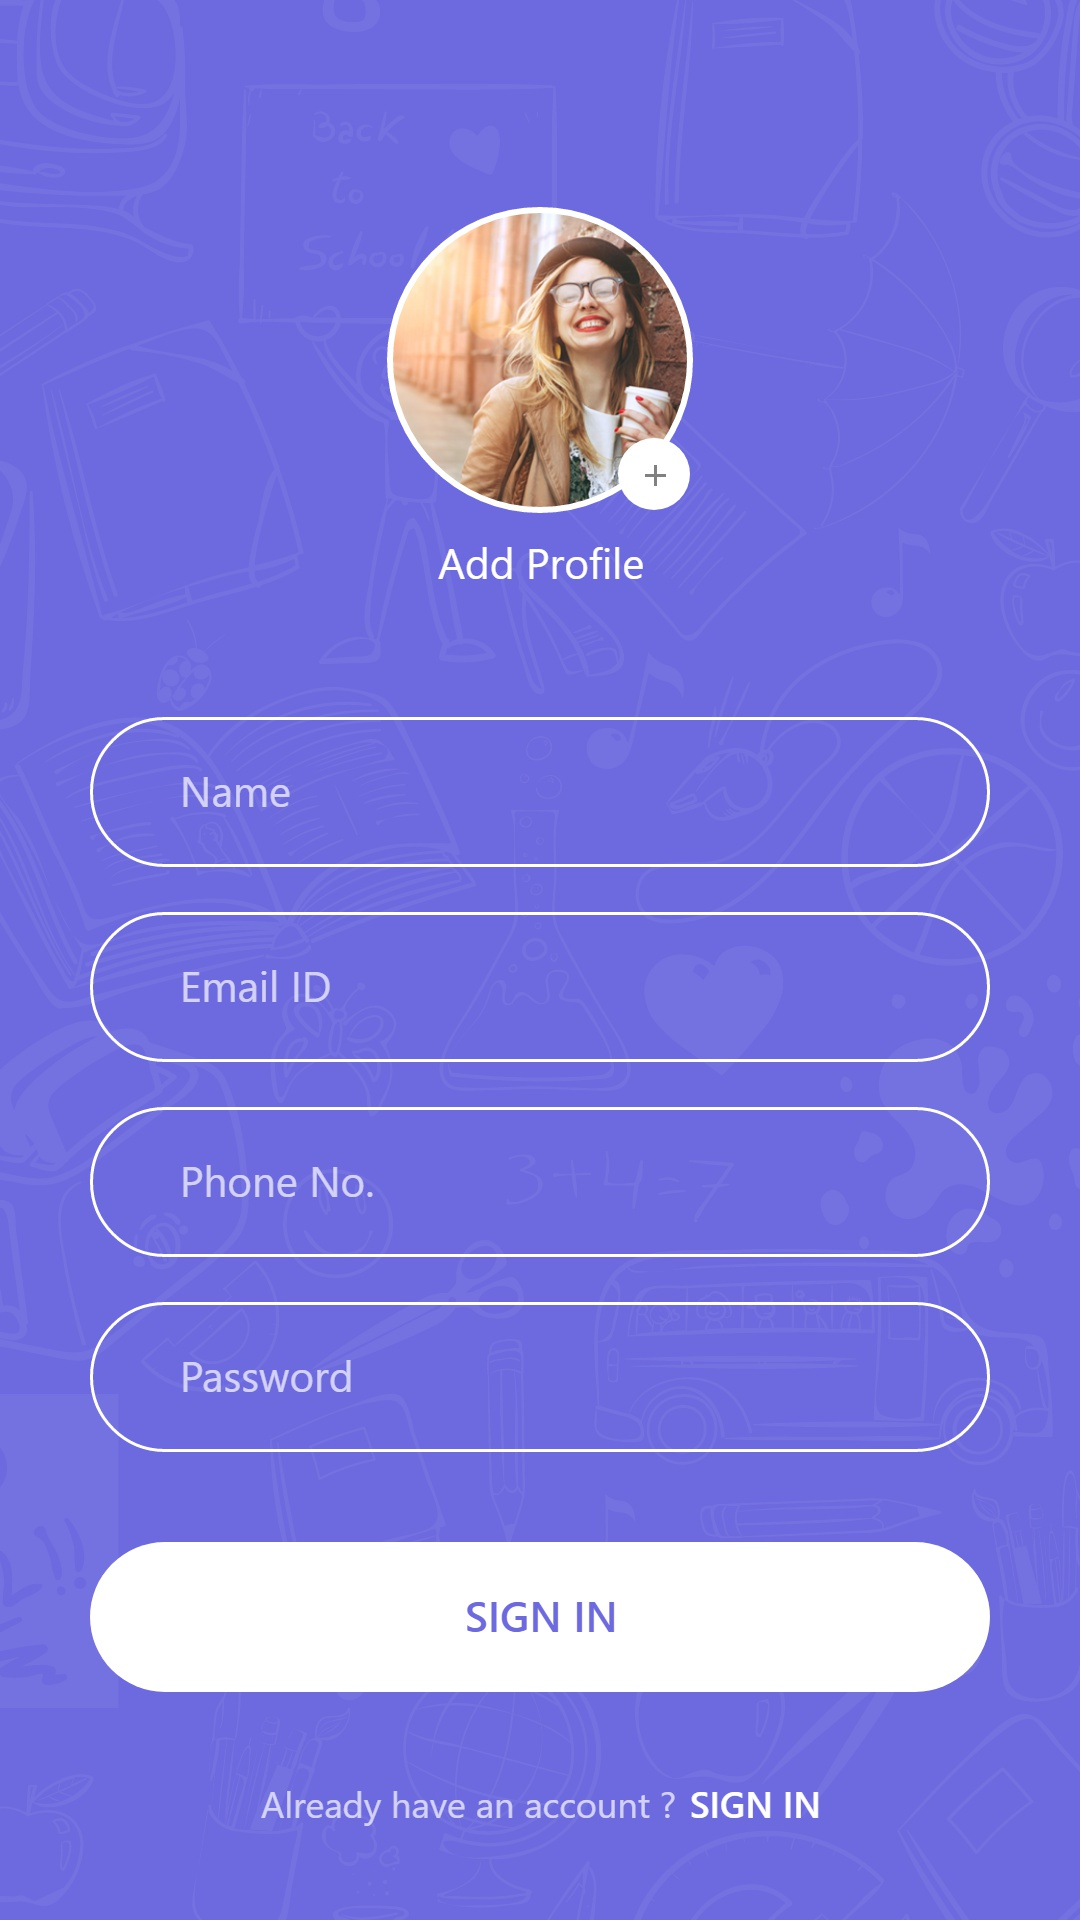BackgroundImage: (1, 1, 1080, 1920)
EditText: (90, 717, 992, 869), (90, 913, 992, 1064), (90, 1106, 992, 1258), (90, 1302, 992, 1453)
Icon: (618, 438, 691, 512)
Image: (386, 207, 694, 516)
Text: (261, 1789, 820, 1826), (436, 546, 645, 582), (183, 1164, 373, 1197), (183, 1360, 352, 1394), (185, 971, 331, 1004), (183, 777, 291, 808)
TextButton: (90, 1542, 992, 1693)
